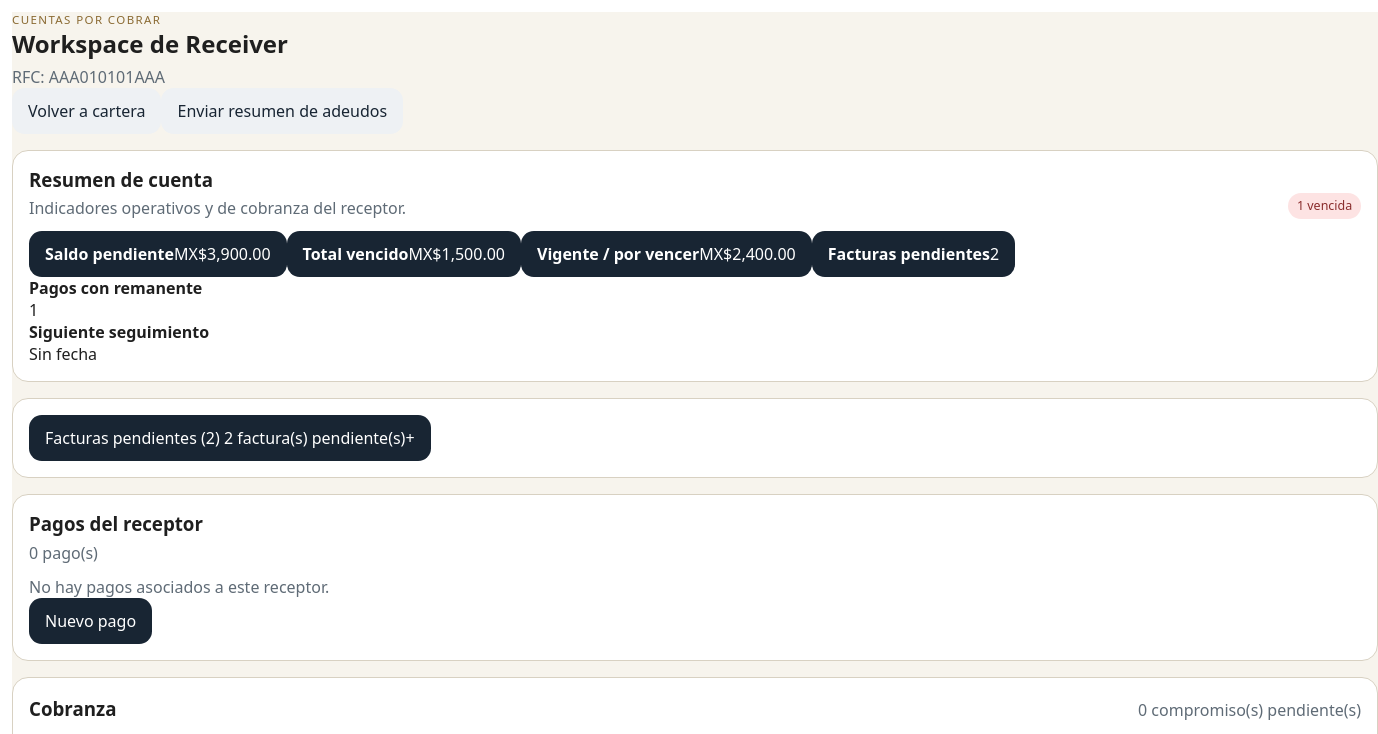
AccountsReceivablePageComponent › filters the workspace grid when Total vencido is selected
Click the button with class "summary-card-action" showing "Total vencido MX$1,500.00". click: [404, 254]
box: [287, 231, 521, 277]
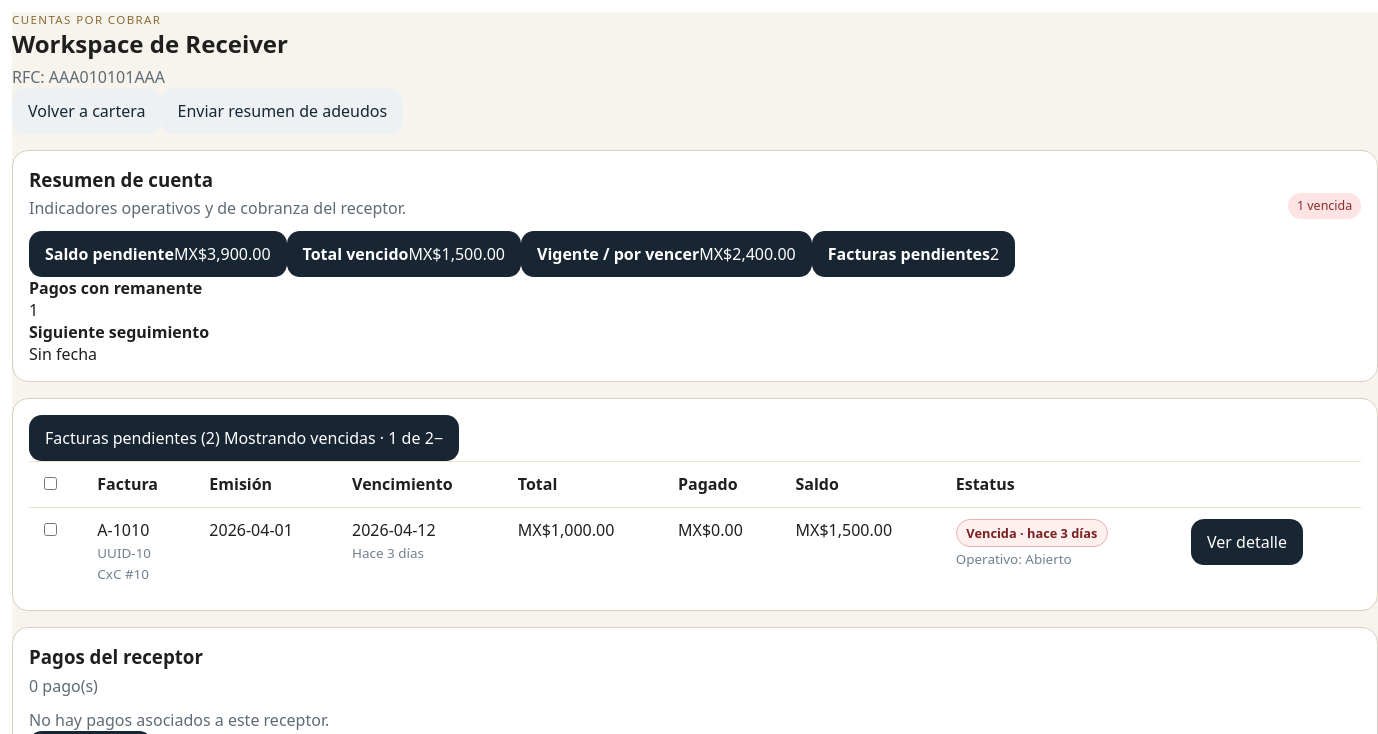
Check: the button with class "collapsible-header" is expanded, box [29, 415, 459, 461]
Check: the text "Mostrando vencidas · 1 de 2" is shown, box [224, 427, 434, 449]
Check: the row that starts with "A-1010" is shown, box [97, 519, 149, 541]
